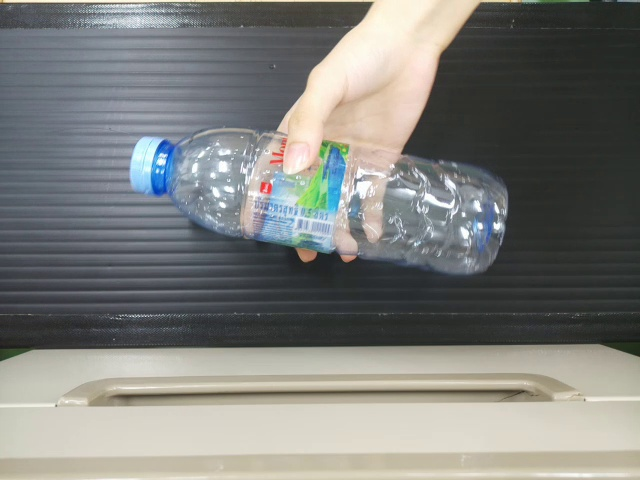bottle: (128, 123, 509, 283)
